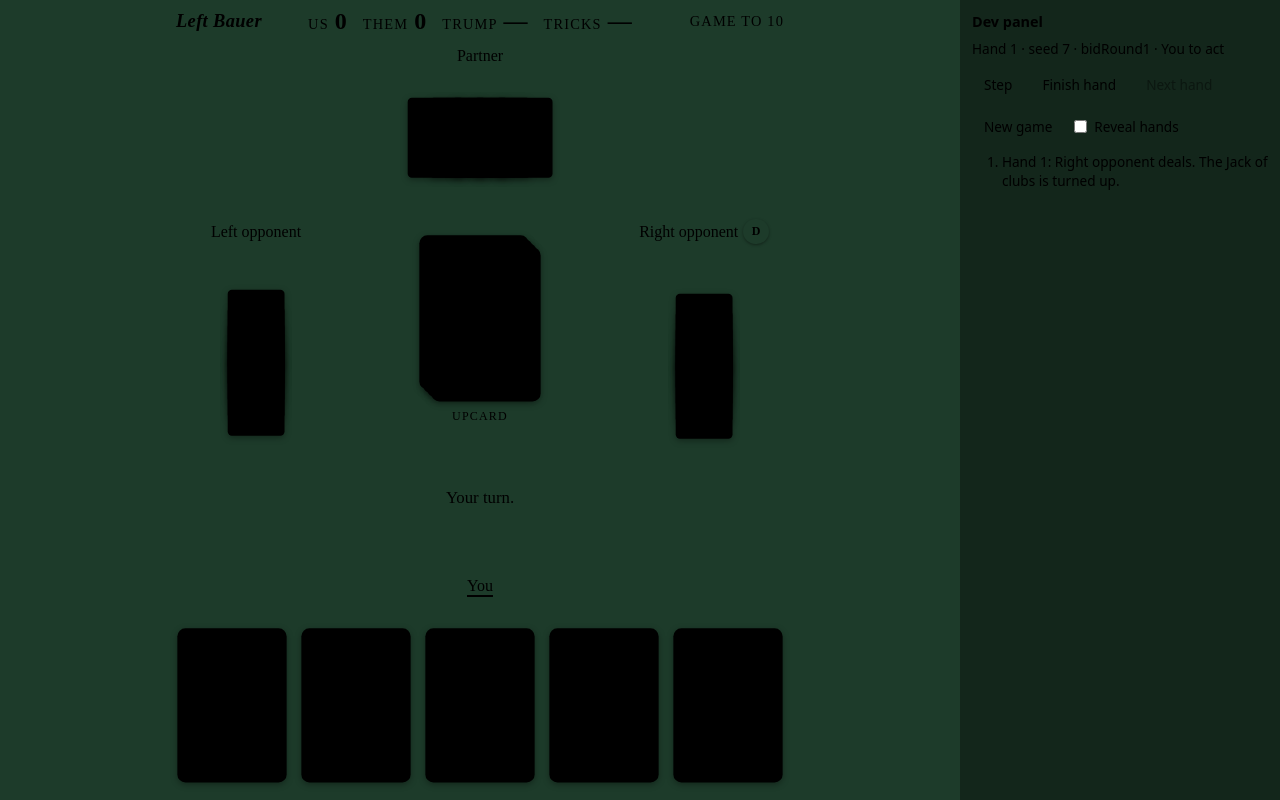
Test: DevApp (?dev) › finishes a hand, then deals the next one
Click the button "Finish hand". click: (1079, 84)
box: [1030,66,1128,102]
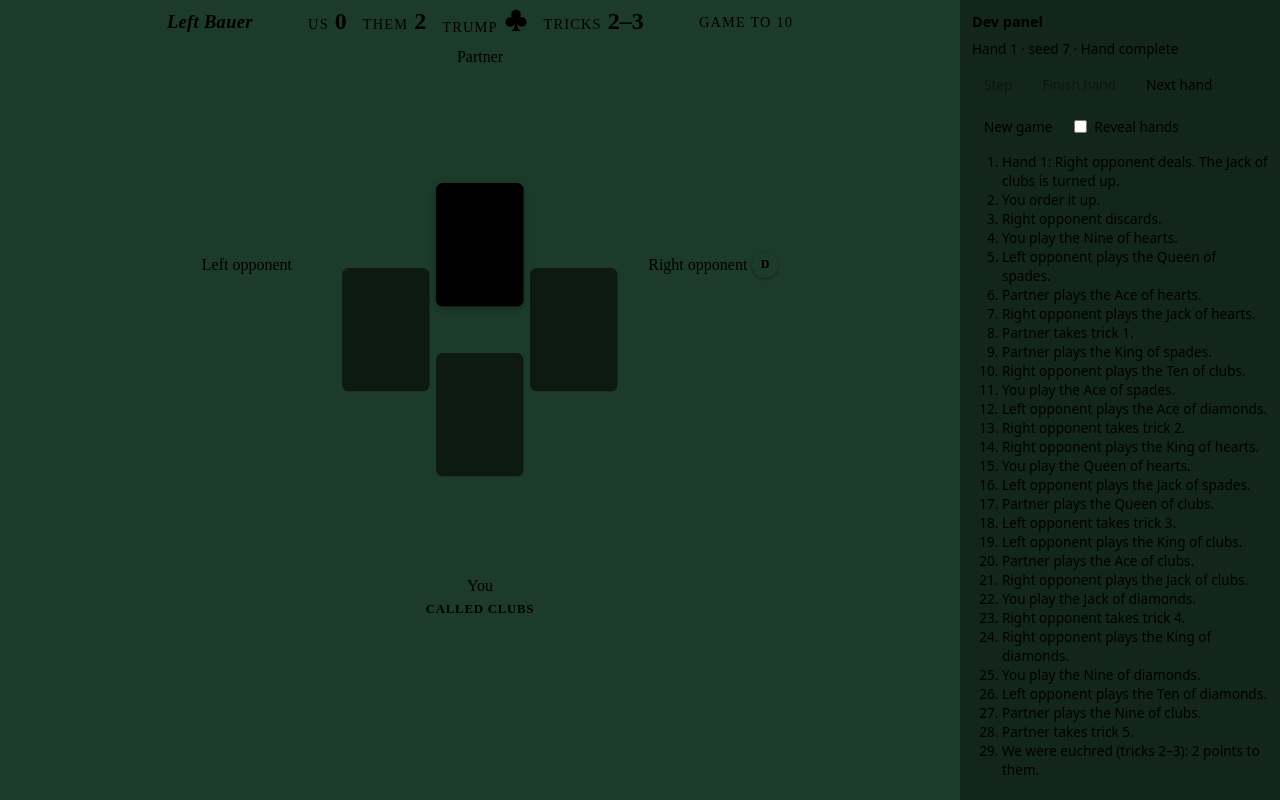
Check: the message shows "Hand complete", box [1081,39,1178,58]
Click the button "Next hand". click: (1179, 84)
box: [1134,66,1224,102]
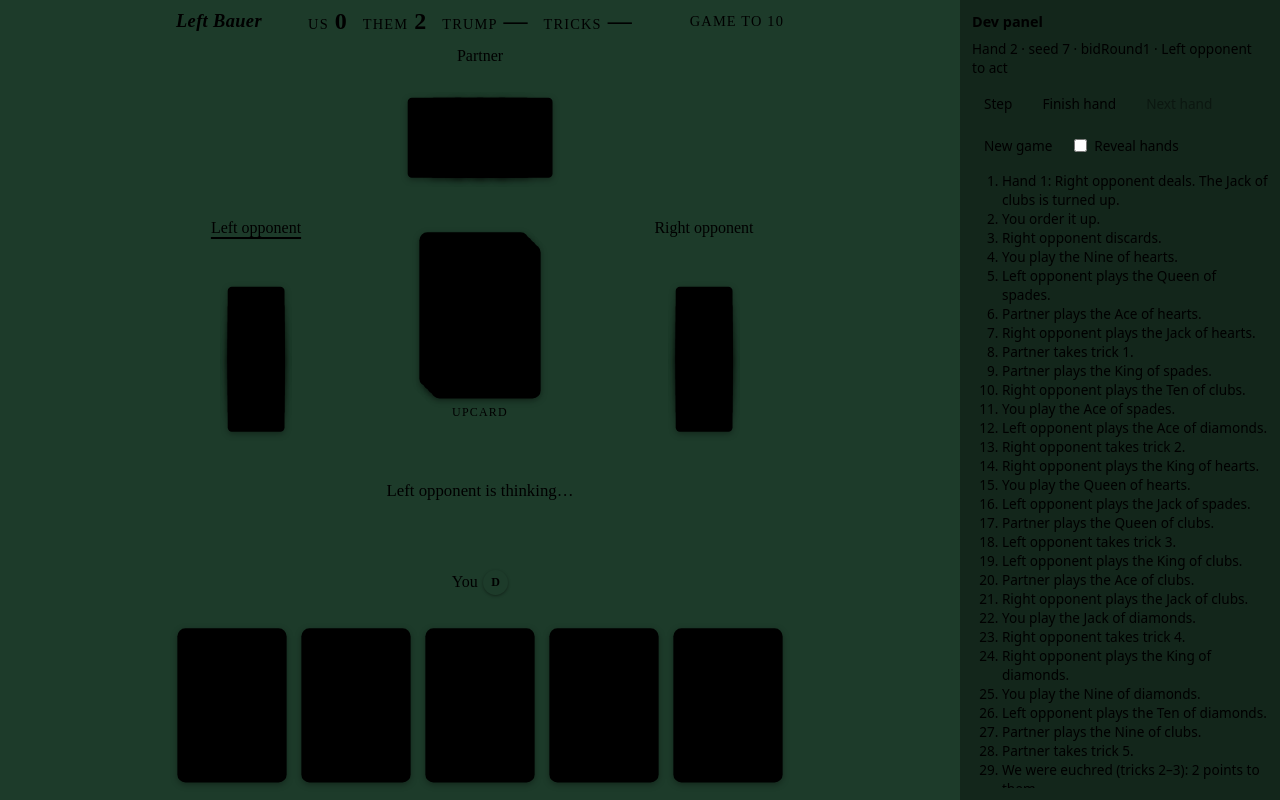
Check: the message shows "Hand 2", box [972,39,1268,77]
